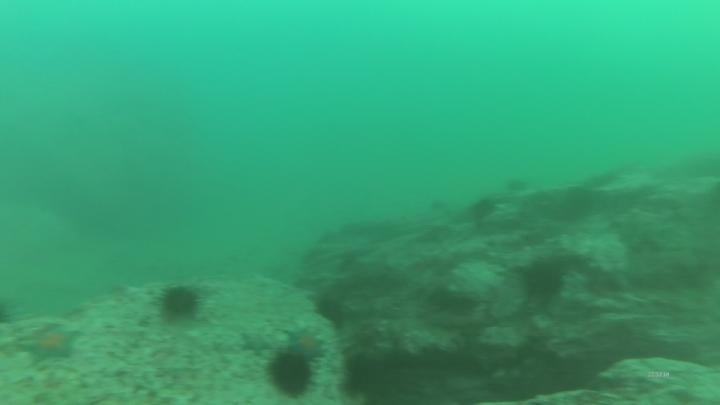echinus: (265, 348, 316, 400), (338, 349, 387, 403), (519, 256, 568, 304), (156, 281, 204, 324), (312, 292, 349, 329), (467, 194, 500, 223)
starfish: (17, 323, 82, 365), (283, 324, 327, 362), (237, 328, 277, 355)
